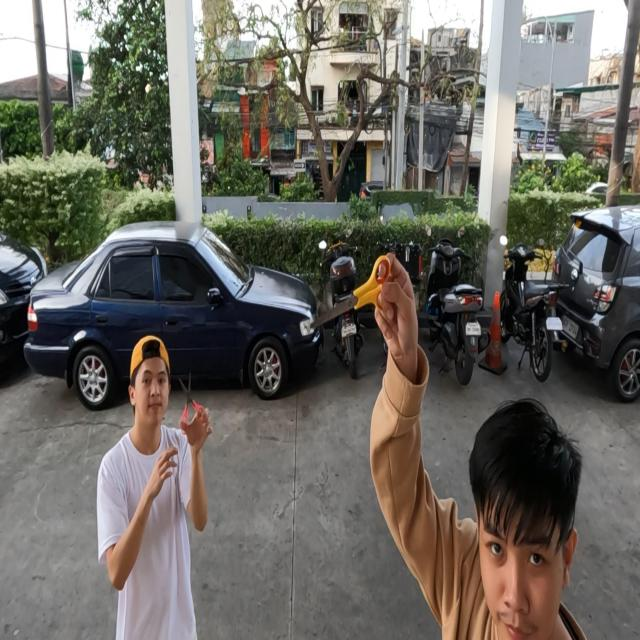scissor: (311, 255, 391, 329), (179, 371, 204, 432)
